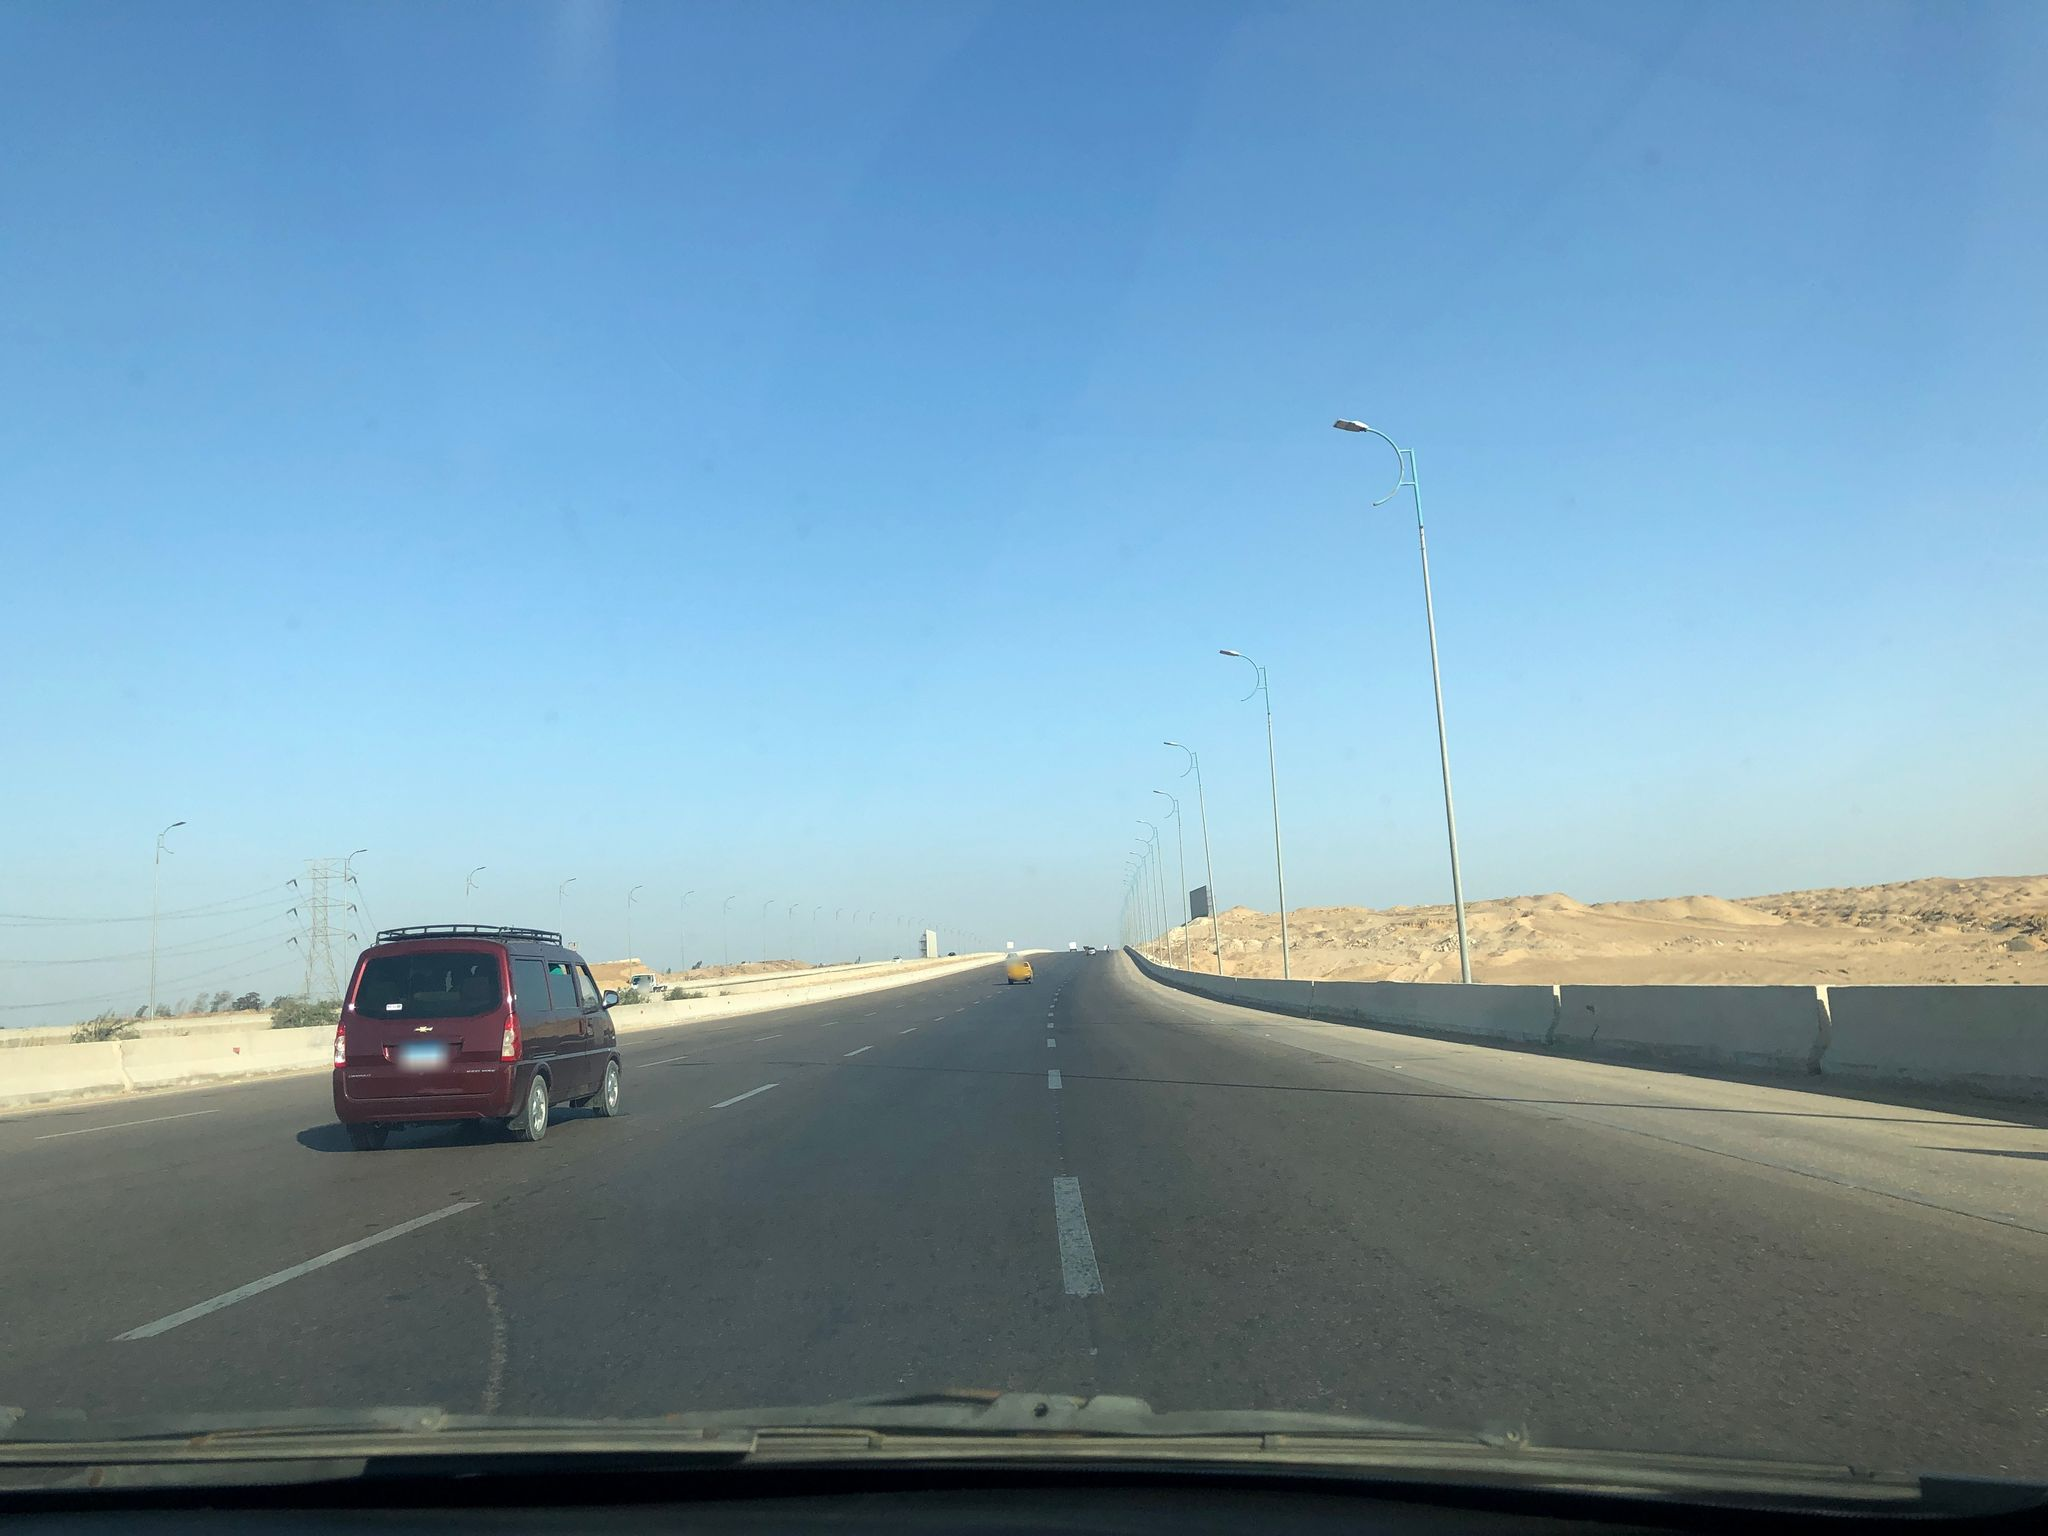car: (326, 920, 622, 1149), (1006, 962, 1034, 983)
